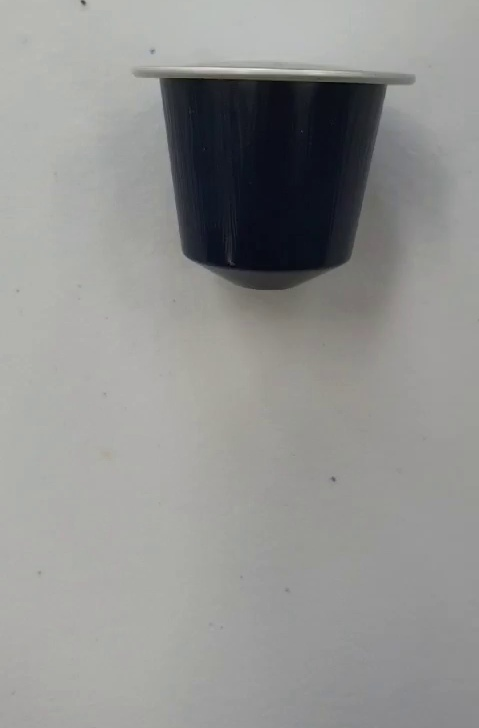capsule_1: (131, 65, 417, 294)
